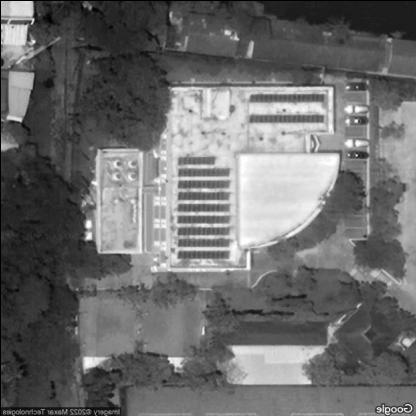solar-pv-panel: (176, 156, 230, 258), (248, 91, 325, 101), (248, 113, 323, 123)
